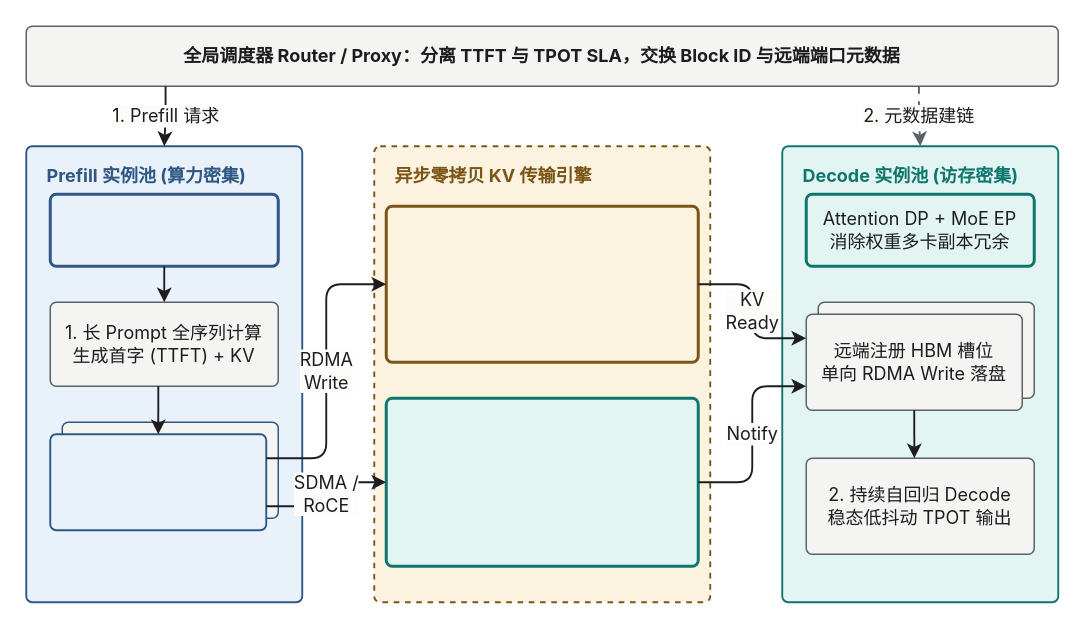
The diagram is 1086 pixels wide and 630 high, and some of its shapes have lost their labels. Each missing label, with the centre of its shape:
NVIDIA 栈 · NIXL / Mooncake • UCX / GPUDirect / NVLink • Layer-wise 边算边推 KV 分页: the point at 541,283
Paged KV Blocks [blocks, block_sz, kv]: the point at 158,482
昇腾栈 · MooncakeLayerwise + MemFabric (接替 LLMDataDist) • SDMA / DEVICE_RDMA / URMA: the point at 541,481
高 TP 并行 (TP4 / TP8) 低批并发压榨首字算力: the point at 163,229
